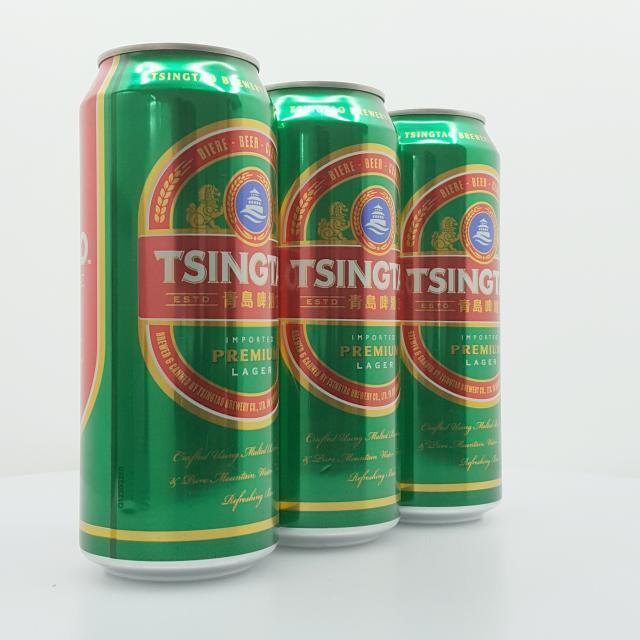metal-can: (78, 42, 279, 583), (231, 80, 402, 548), (352, 107, 503, 524)
